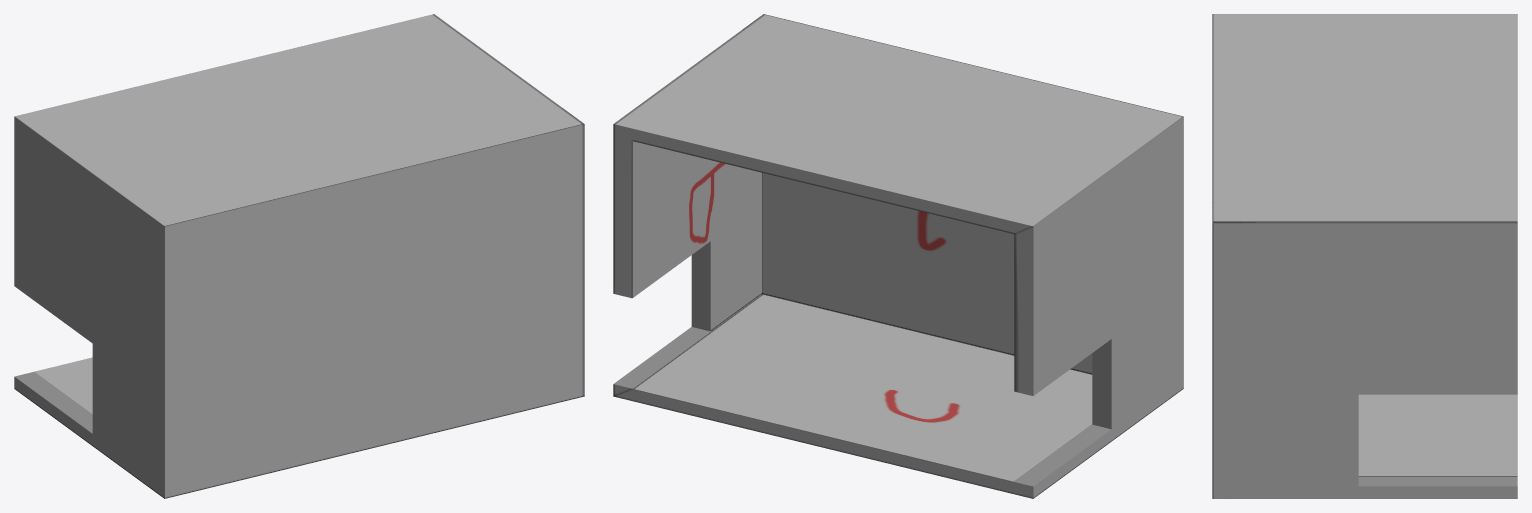
Rendered from roomLRdoor.fbx.
3 views of the same model, side by side, from view 1: azimuth 30°, elevation 25°; view 2: azimuth 150°, elevation 25°; view 3: azimuth 270°, elevation 25° (orthographic).
Visible parts, largest first — view 1: Cube; view 2: Cube; view 3: Cube.
Part boxes in pixels (bbox=[...]): Cube: bbox=[14, 14, 584, 498]; Cube: bbox=[613, 14, 1183, 498]; Cube: bbox=[1212, 14, 1517, 498].
Size of the model in its own units: 3.23 by 2 by 2.
Materials: 1 (1 with a texture image).
